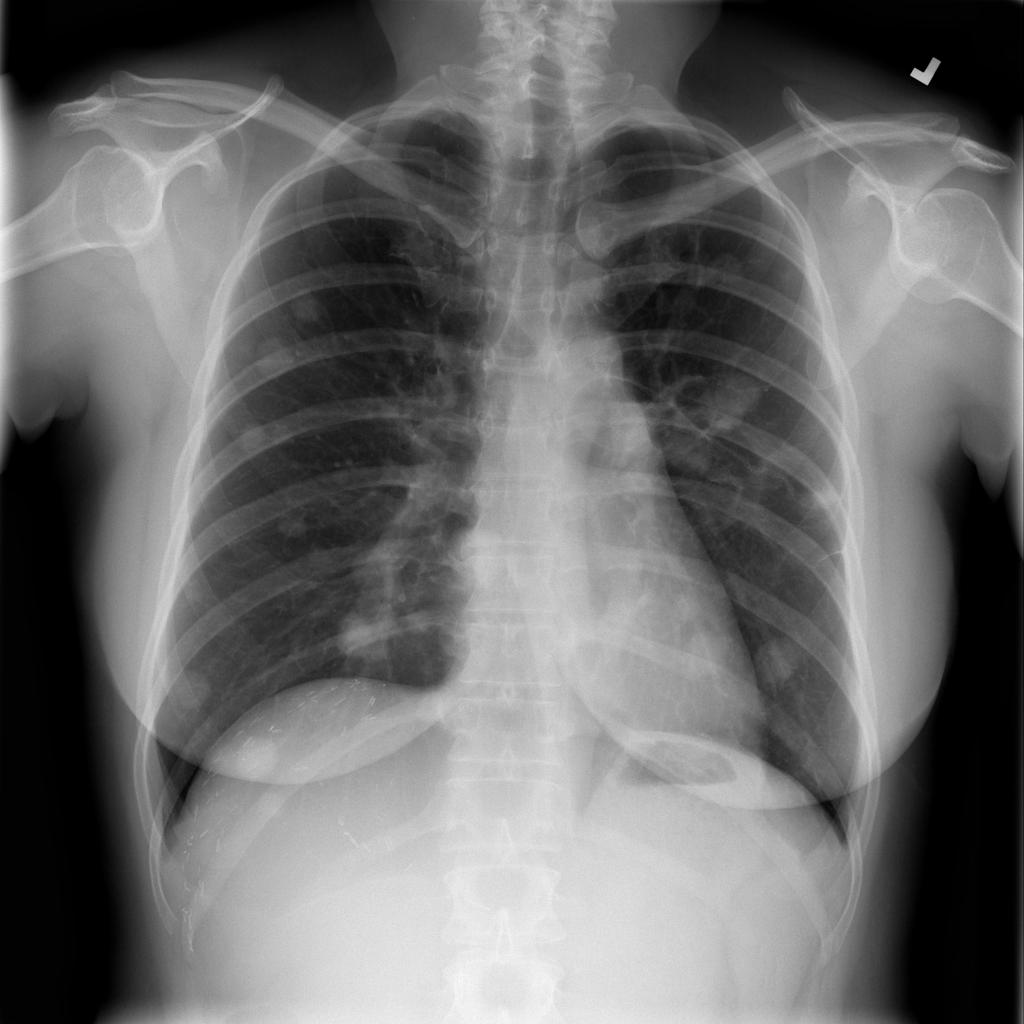nodule: (440, 514, 518, 591), (692, 360, 769, 437), (323, 598, 403, 670), (746, 620, 817, 699), (215, 723, 296, 790), (151, 653, 230, 721), (688, 232, 760, 306), (787, 465, 860, 535), (243, 319, 310, 395), (223, 407, 294, 473), (283, 276, 335, 330), (263, 500, 321, 546)
